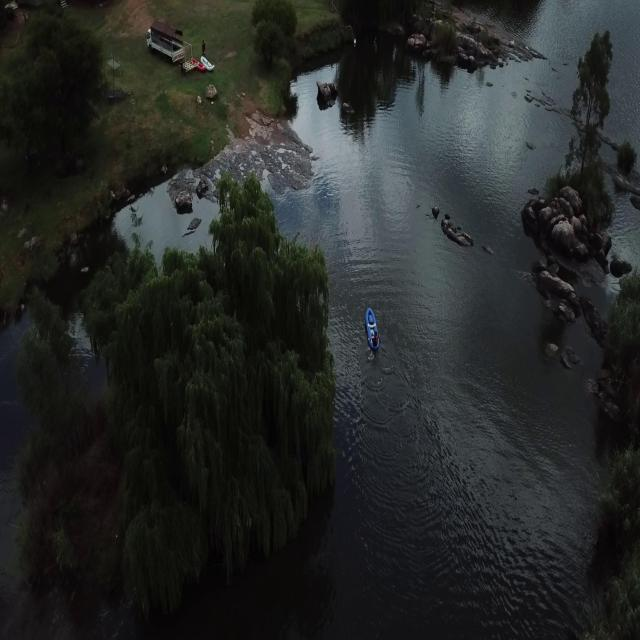kayak: (363, 306, 381, 352)
